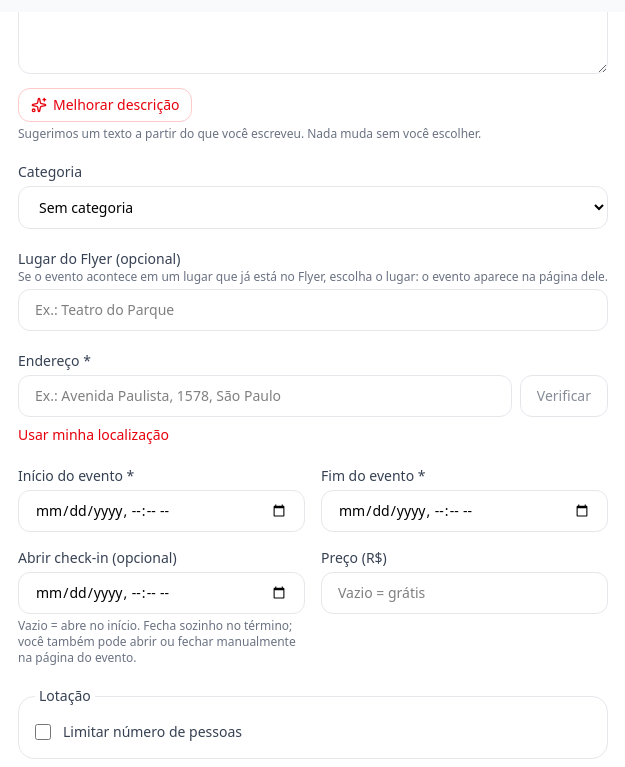
it: CreateEventPage (endereço → geocodificação) › mostra confirmação ao clicar em "Verificar"
The image size is (625, 767).
(page scrolled)
In the field labelled "Endereço *": [265, 396] box [18, 375, 512, 417], type "Lisboa"
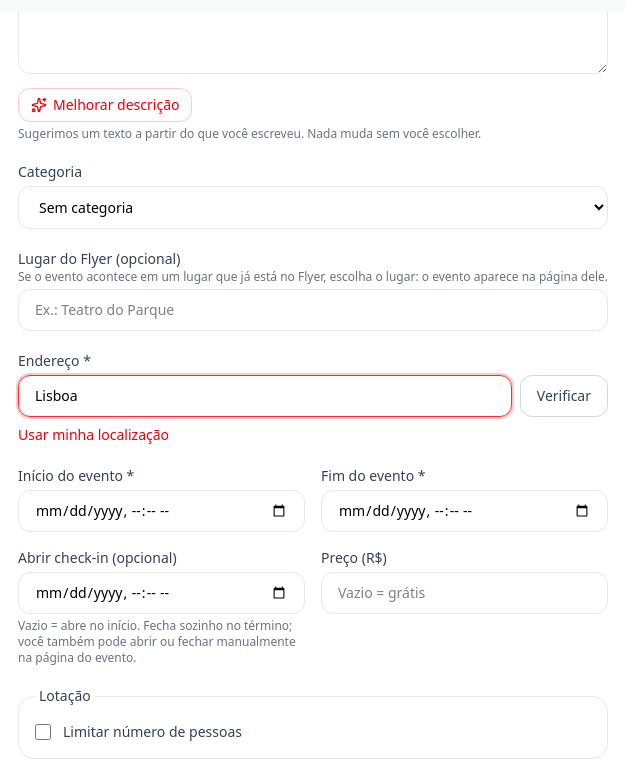
Click the button "Verificar": [564, 396] box [520, 375, 608, 417]
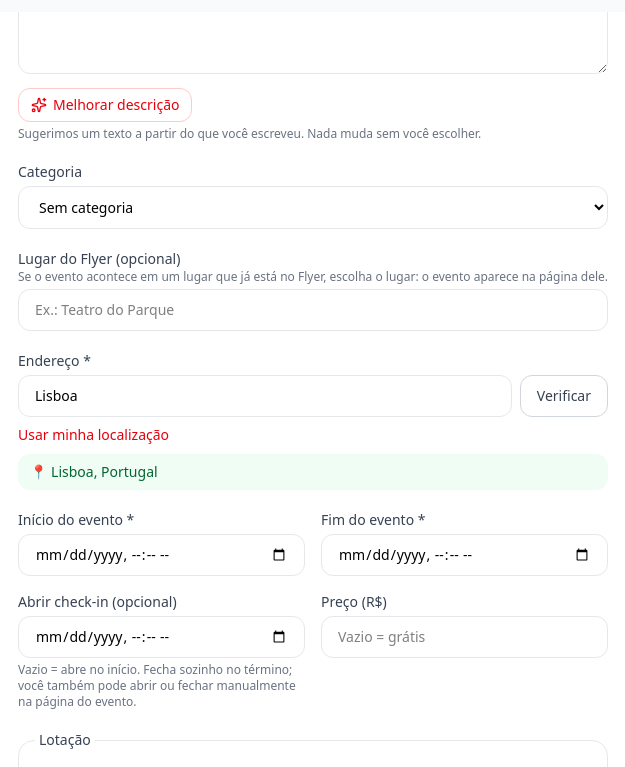
Expected: the text "📍 Lisboa, Portugal" is shown, [18, 454, 608, 490]
